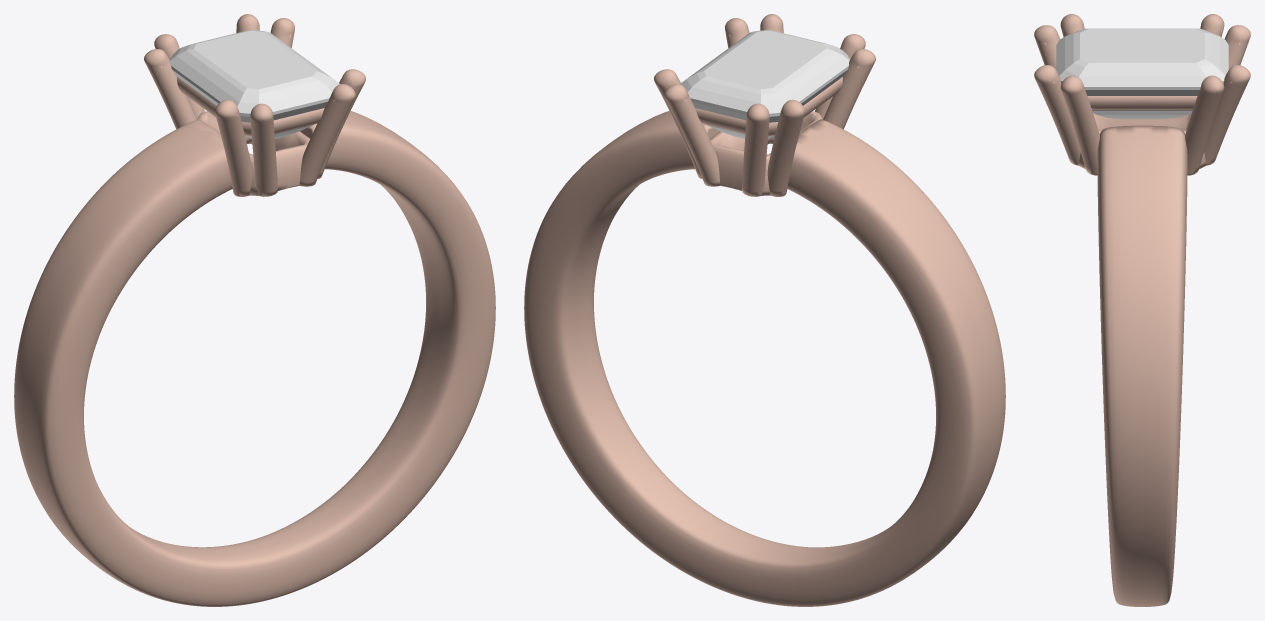
File: diamond-emerald-rosegold-8prong-straighttaperedband-solitaire.glb
3 views of the same model, side by side, from view 1: azimuth 30°, elevation 25°; view 2: azimuth 150°, elevation 25°; view 3: azimuth 270°, elevation 25° (orthographic).
Visible parts, largest first — view 1: metal.002, stone; view 2: metal.002, stone; view 3: metal.002, stone.
Boxes of the visible parts, x1,y1,x2,y2 form: metal.002: (14,14,495,606); stone: (169,29,339,138); metal.002: (524,14,1005,606); stone: (680,29,850,138); metal.002: (1034,14,1250,606); stone: (1056,28,1228,119).
Bounding box in the file's own units: 20.49 × 22.95 × 8.4.
